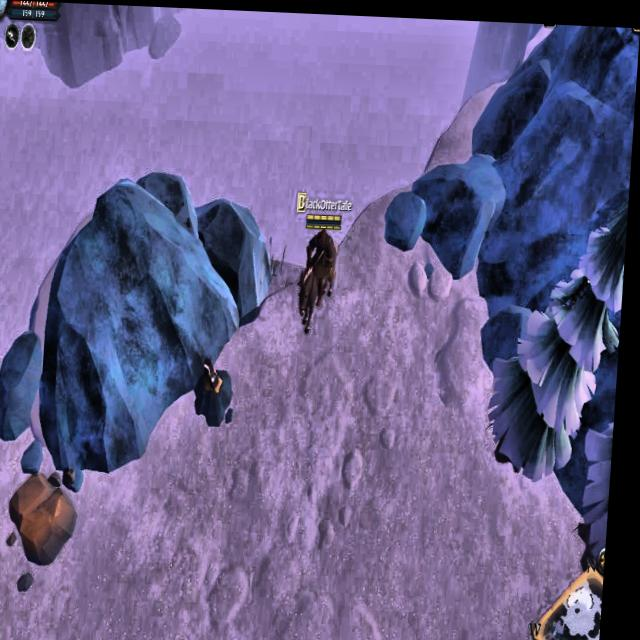copperore: (195, 353, 245, 425)
limestone: (11, 469, 86, 569)
